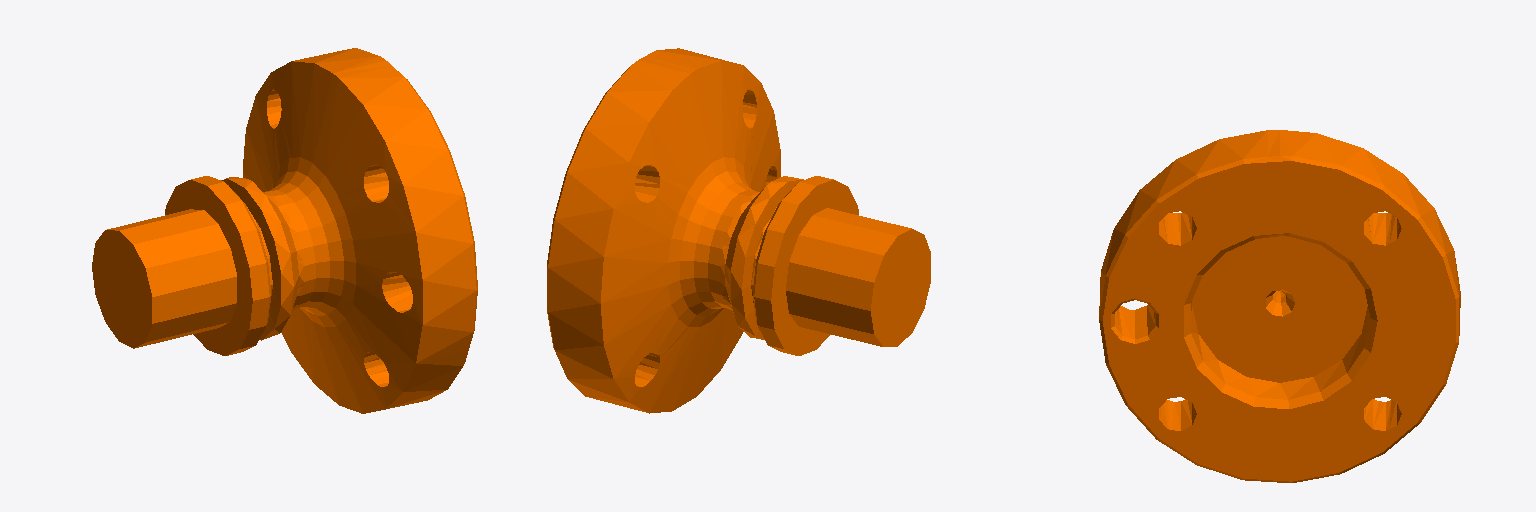
3 renders of one model, left to right at view 1: azimuth 30°, elevation 25°; view 2: azimuth 150°, elevation 25°; view 3: azimuth 270°, elevation 25°, orthographic.
Visible parts, largest first — view 1: <STL_BINARY>; view 2: <STL_BINARY>; view 3: <STL_BINARY>.
Boxes of the visible parts, x1,y1,x2,y2 form: <STL_BINARY>: [92, 48, 477, 413]; <STL_BINARY>: [547, 48, 930, 413]; <STL_BINARY>: [1099, 130, 1460, 482].
Bounding box in the file's own units: 0.1676 × 0.1966 × 0.1969.